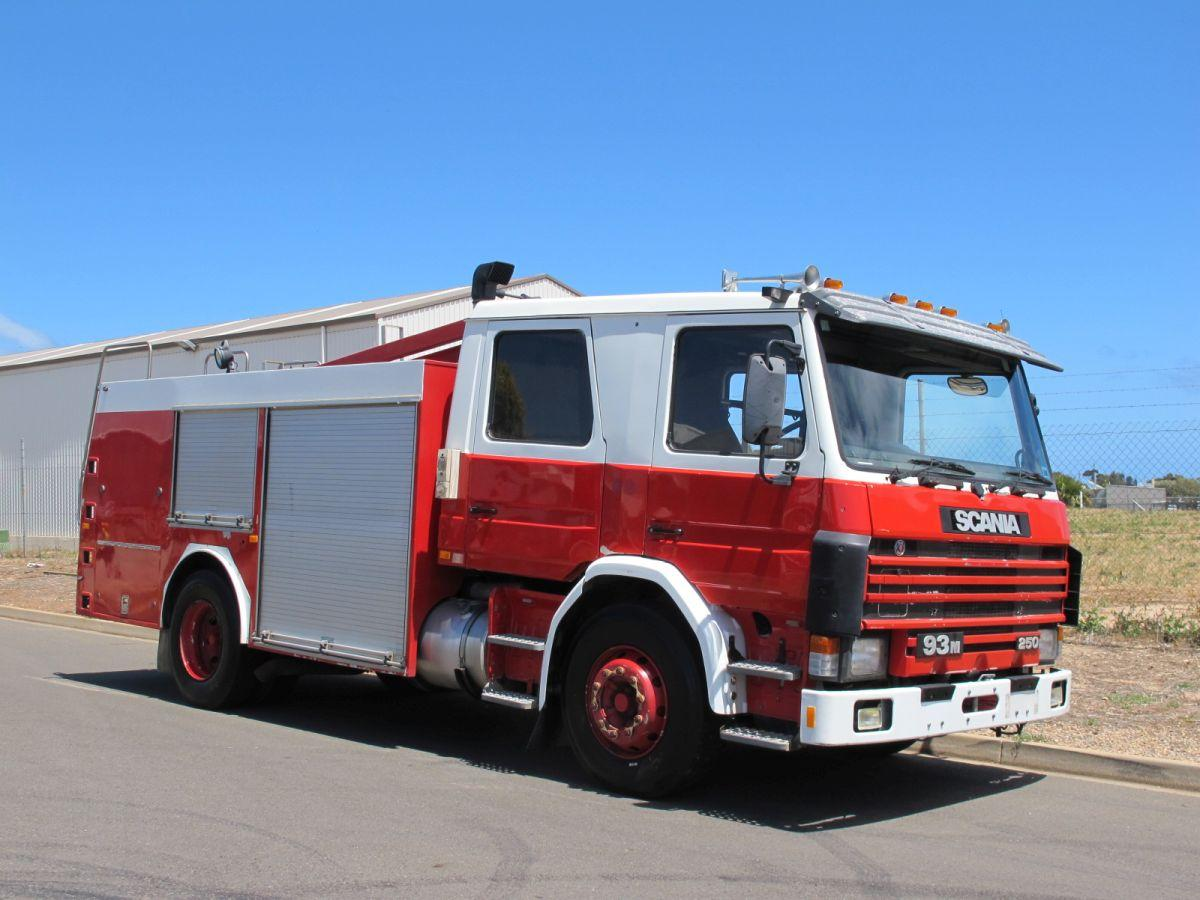Fire-engine: (73, 260, 1082, 799)
